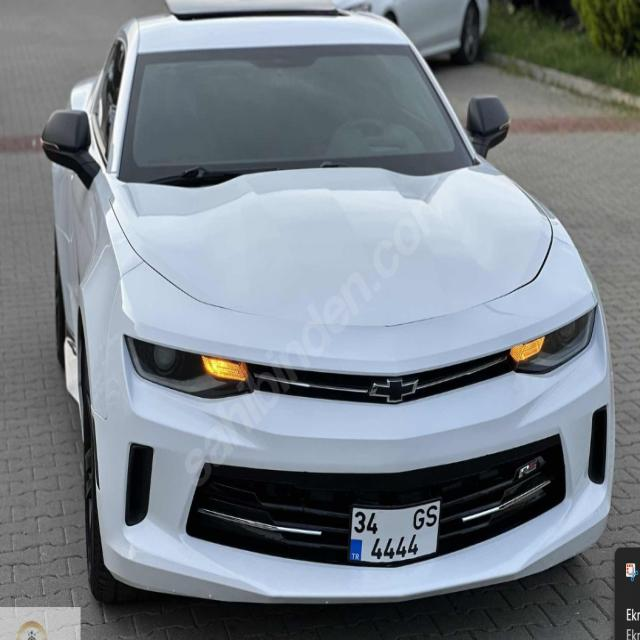chevrolet: (369, 374, 420, 409)
